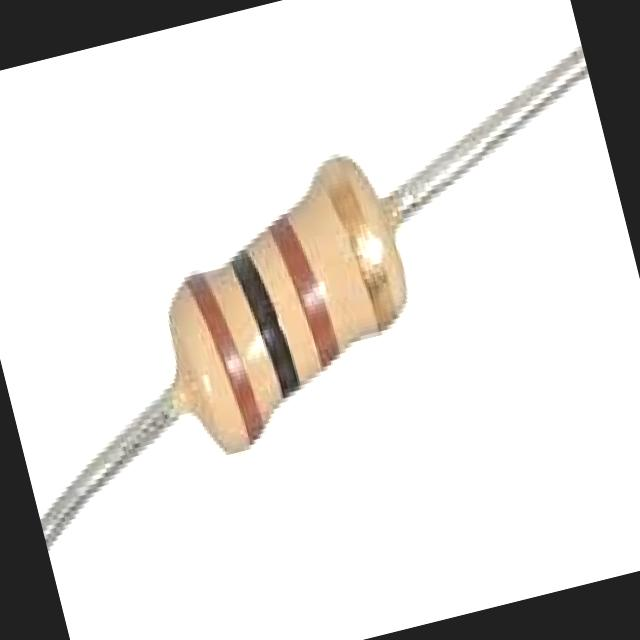Resistor: (168, 159, 404, 447)
black: (229, 250, 300, 399)
brown: (184, 271, 263, 447), (268, 215, 339, 369)
gold: (315, 156, 395, 331)
